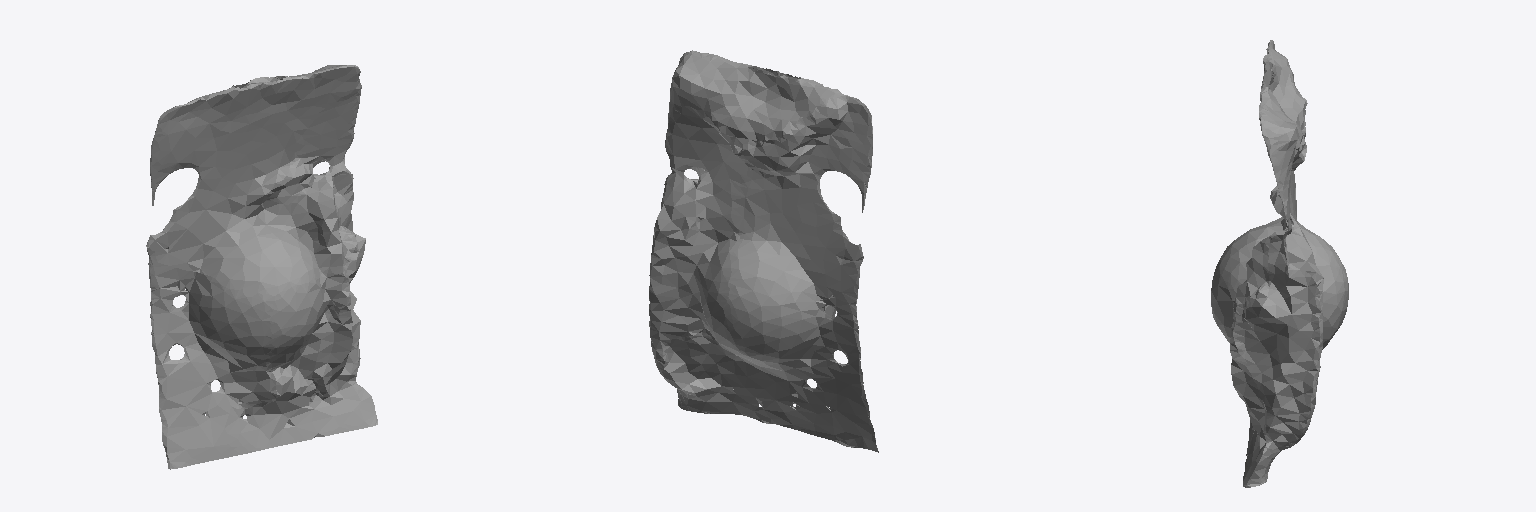
Rendered from kong_air_dog_squeakair_tennis_ball.obj.
3 views of the same model, side by side, from view 1: azimuth 30°, elevation 25°; view 2: azimuth 150°, elevation 25°; view 3: azimuth 270°, elevation 25° (orthographic).
Bounding box in the file's own units: 0.0971 × 0.1593 × 0.0551.